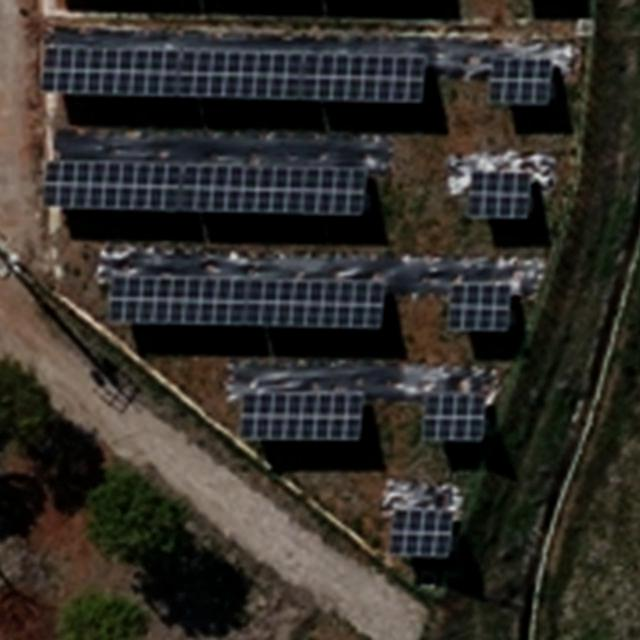solar: (38, 44, 429, 105), (40, 156, 372, 219), (107, 274, 388, 333), (238, 394, 367, 446), (389, 506, 457, 562), (445, 280, 514, 335), (466, 169, 536, 222), (424, 392, 489, 446), (488, 57, 554, 109)
